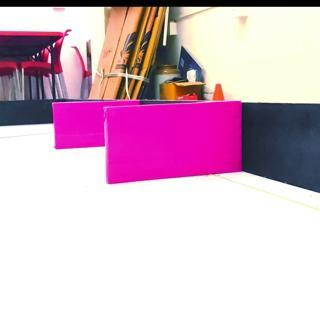xparking: (107, 107, 242, 176), (55, 101, 102, 147)
